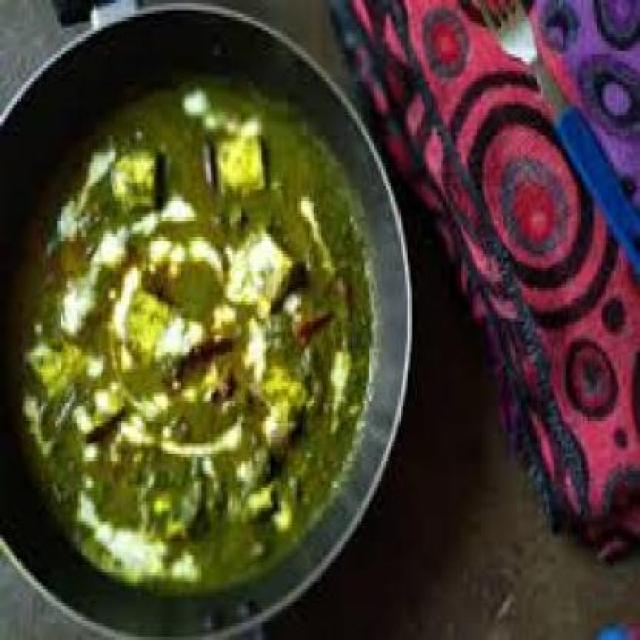palakpaneer: (0, 83, 372, 596)
